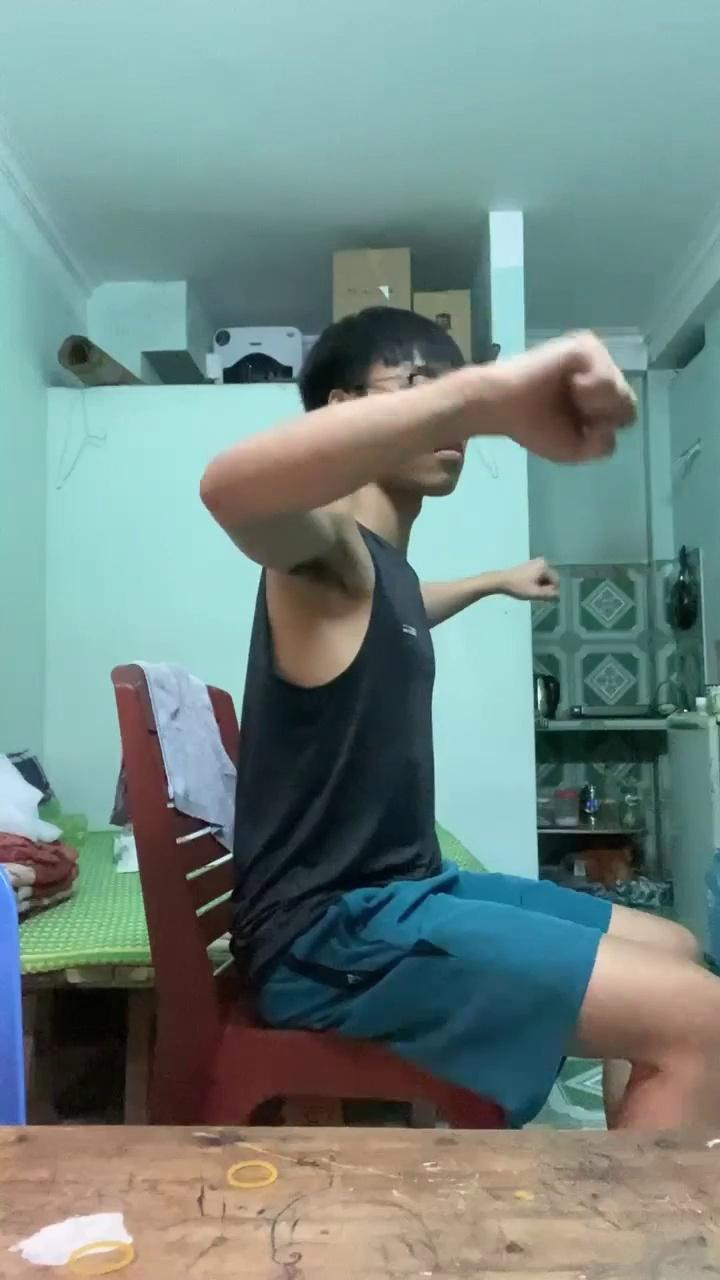GoodPosture: (200, 333, 634, 685), (572, 915, 719, 1062)
